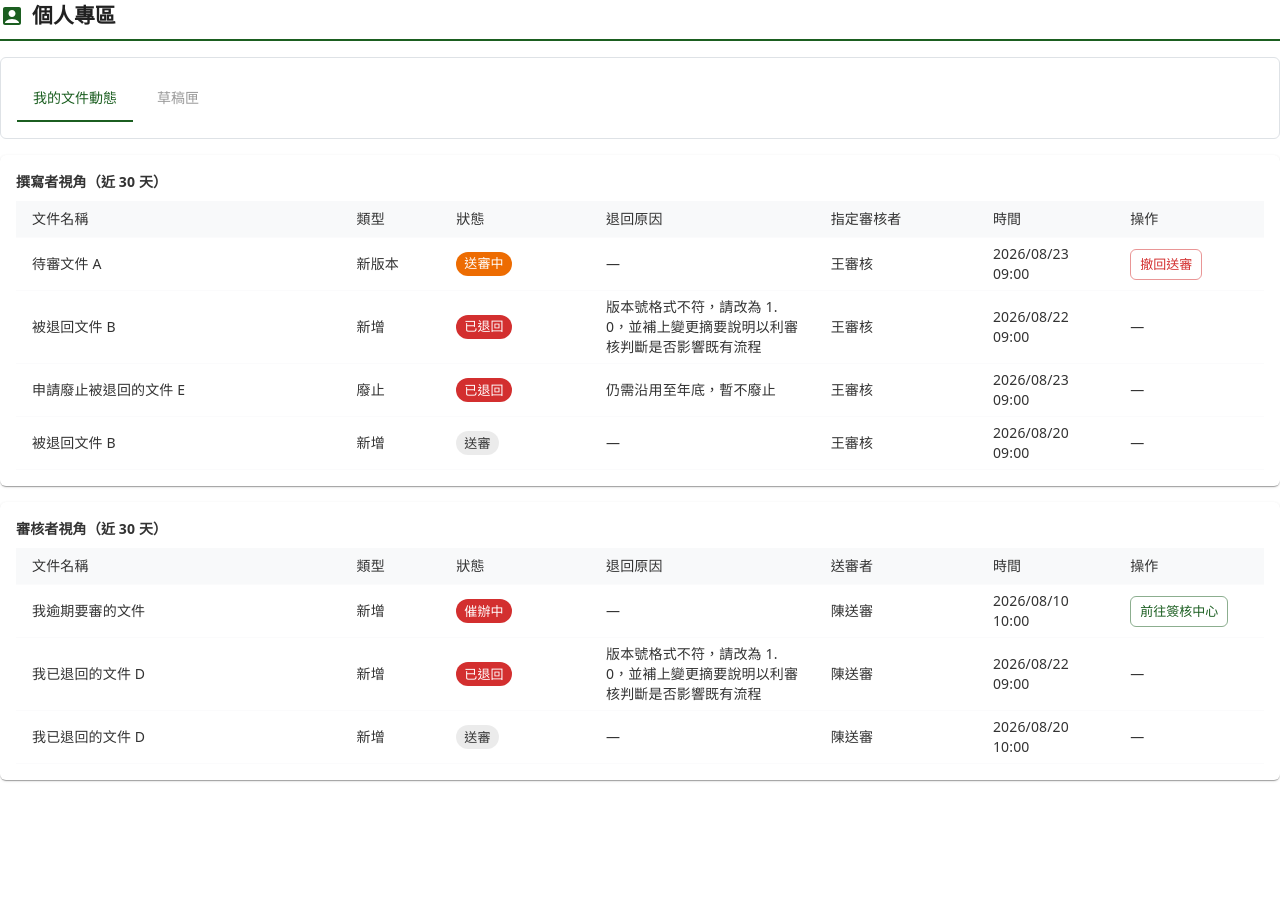
Test: DmPersonalPage 個人專區（DM04） › 撤回送審 → 二次確認 → 成功 toast（DM-MSG-DM04-005）
Step 1. Click the button "撤回送審" → x=1166, y=264, box [1130,249,1202,280]
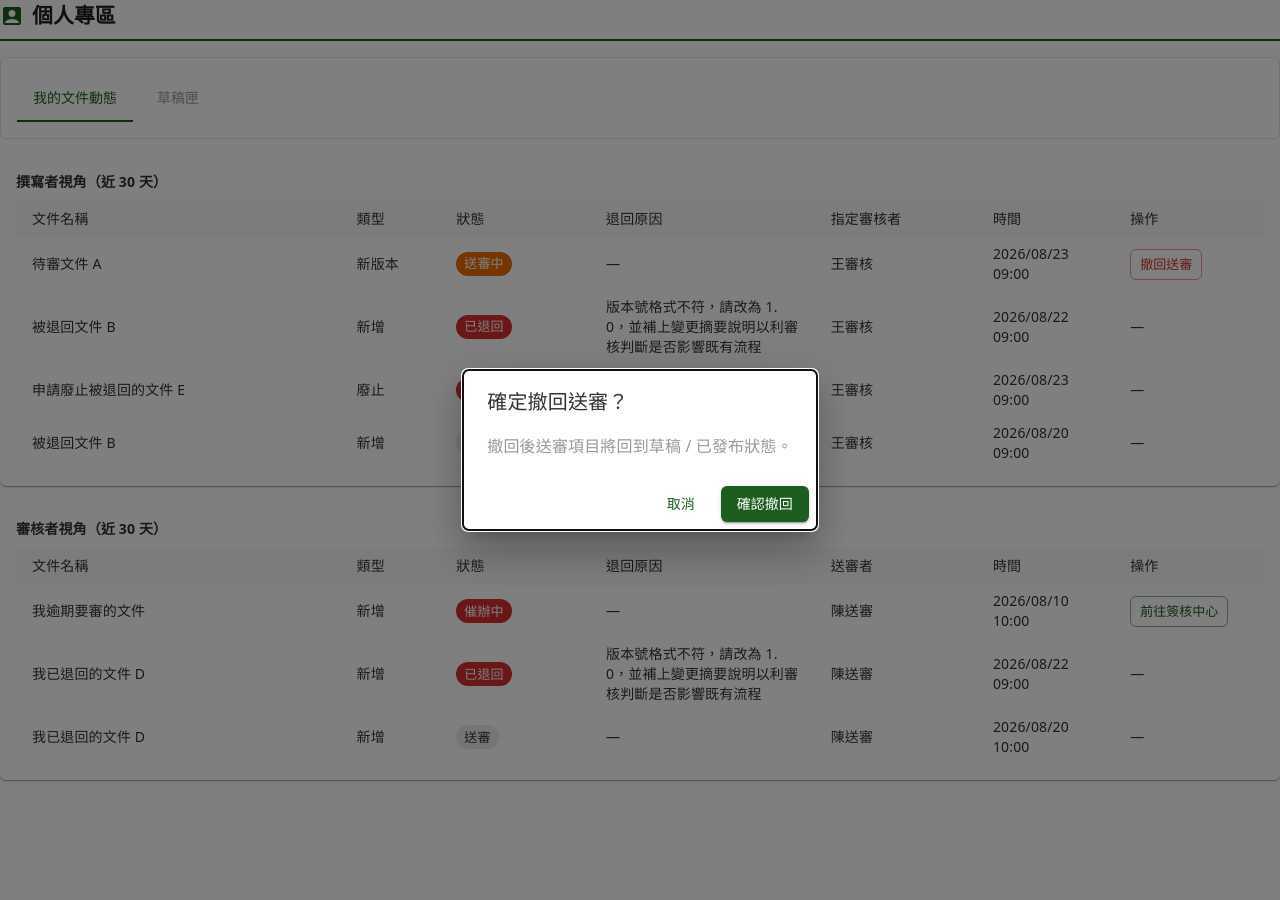
Expected: the heading "確定撤回送審？" is shown, [487,388,628,415]
Expected: the text "撤回後送審項目將回到草稿 / 已發布狀態。" is shown, [487,434,793,458]
Step 2. Click the button "確認撤回" → x=765, y=504, box [721,486,809,522]
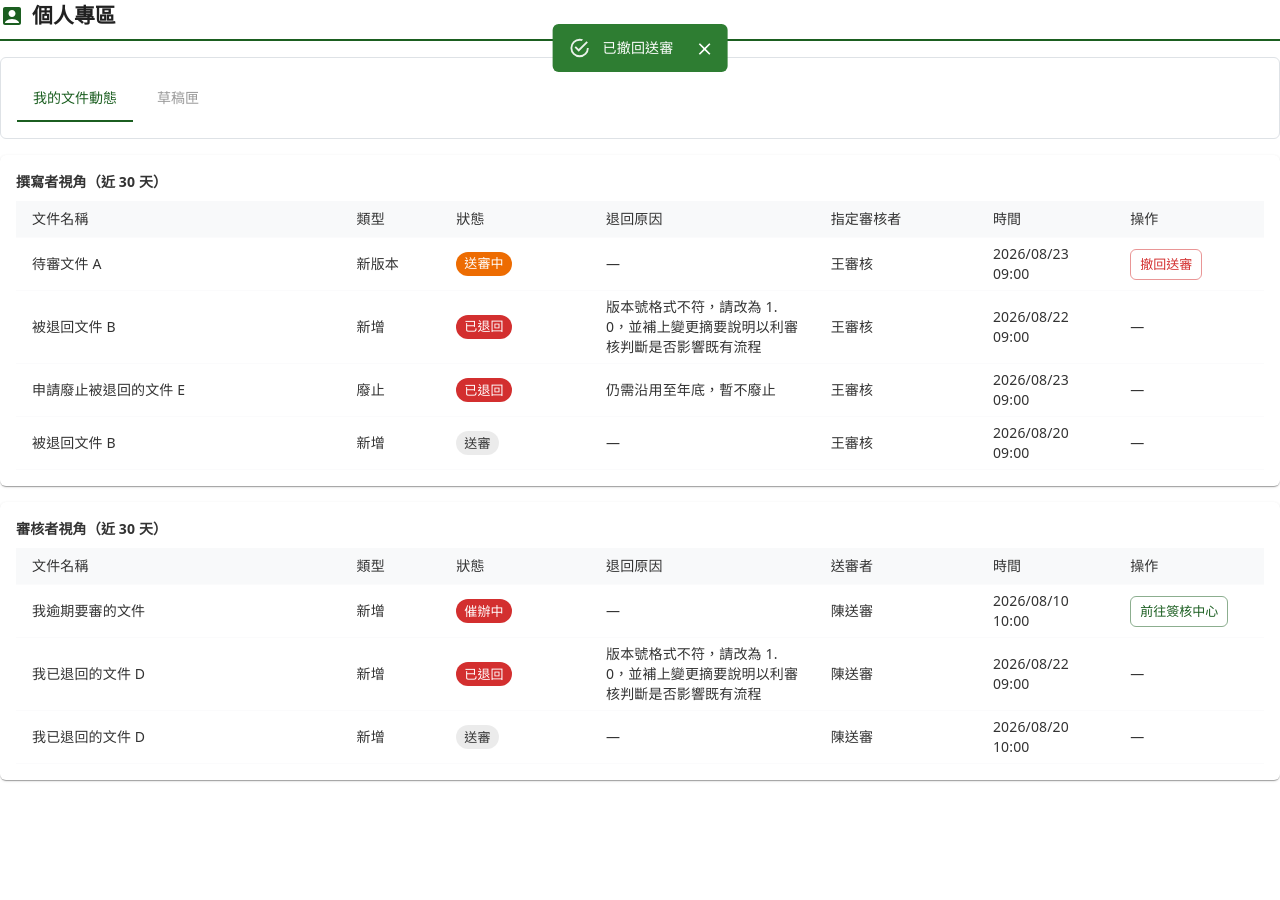
Expected: the text "已撤回送審" is shown, [603,38,673,57]
